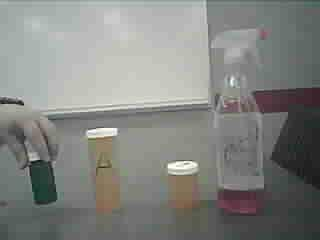Bottle A: (83, 120, 133, 221)
Bottle B: (167, 157, 204, 215)
Bottle C: (17, 146, 73, 209)
hazard: (204, 23, 282, 219)
